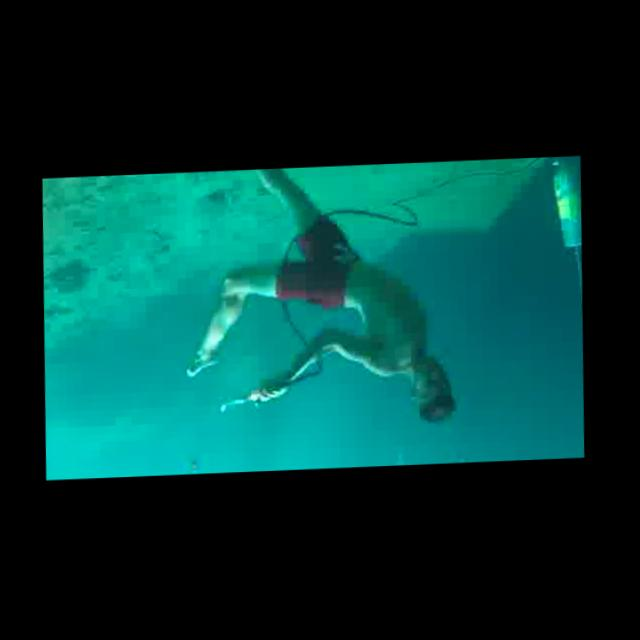human: (174, 162, 462, 439)
